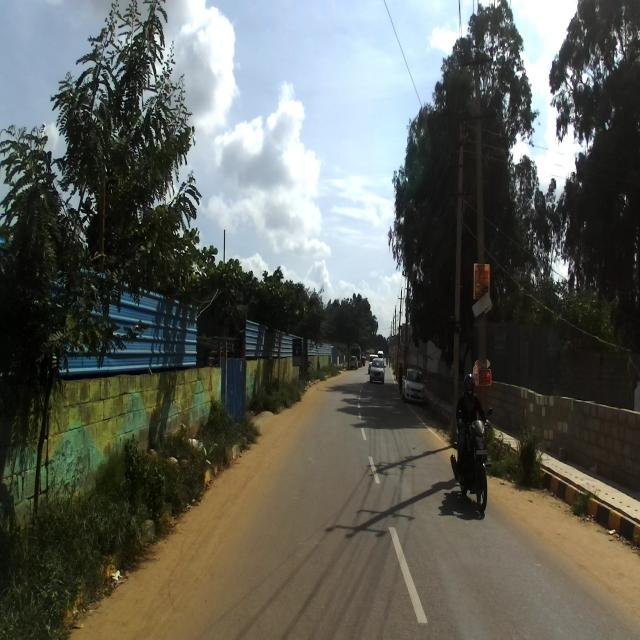Car_Maruti-Suzuki: (401, 368, 428, 404)
motorcycle_Yamaha: (450, 405, 492, 514)
